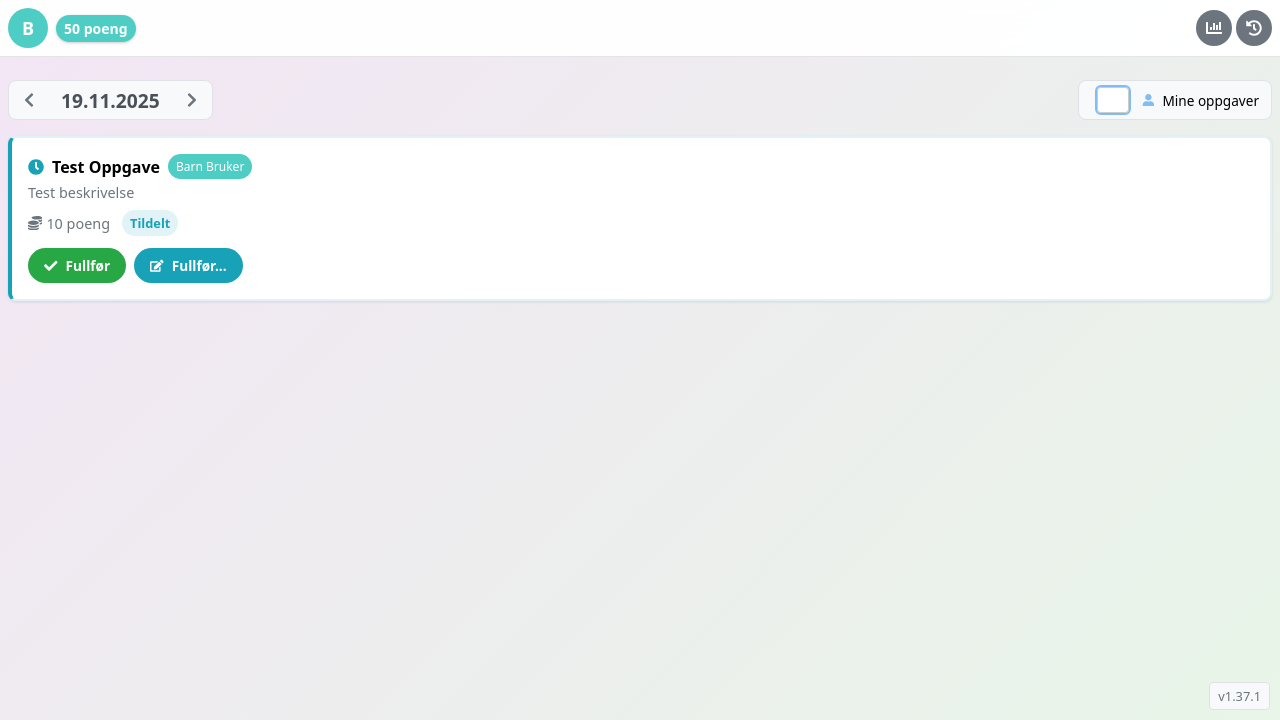
Test case: Child User Experience › should handle clicking on allowed buttons without showing error messages
Note: Click on profile button - should work fine
Click the button titled "Åpne profil og innstillinger" at (28, 28), box [8,8,48,48]
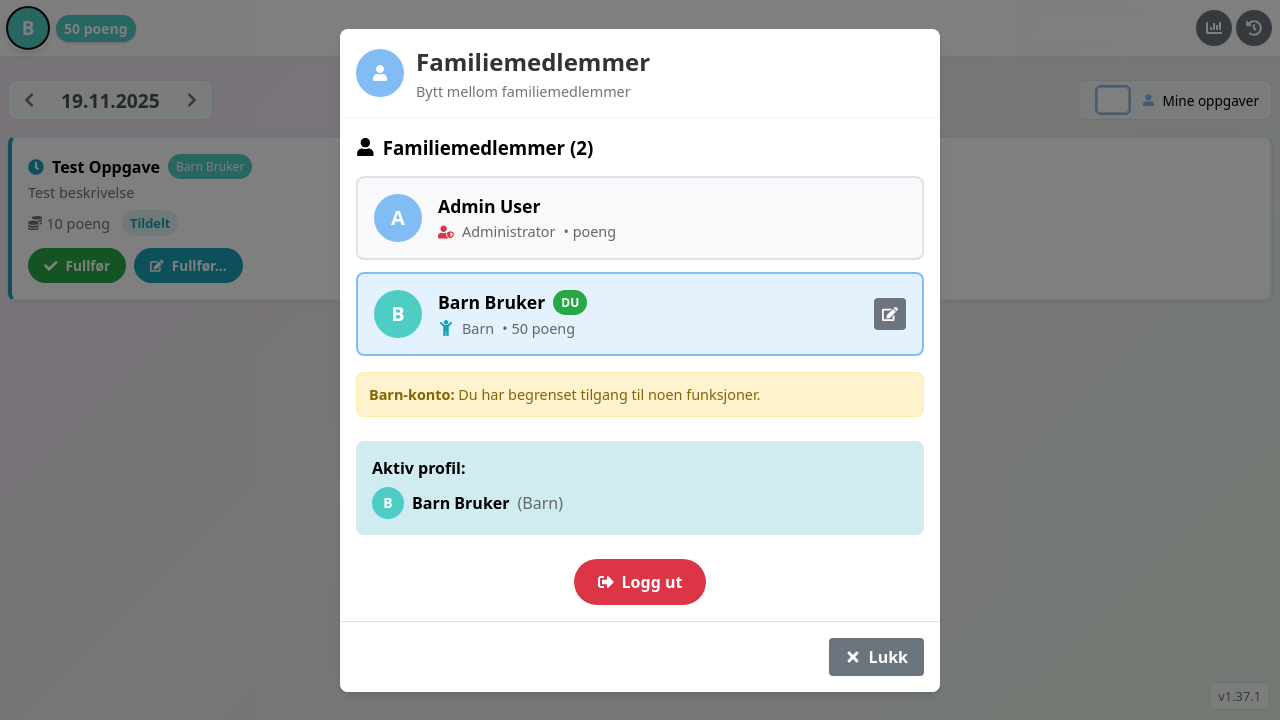
Check: the heading "Familiemedlemmer" is shown, box [416,44,650,78]
